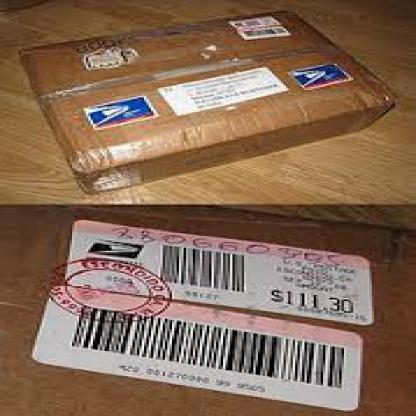paquete: (9, 16, 398, 198)
